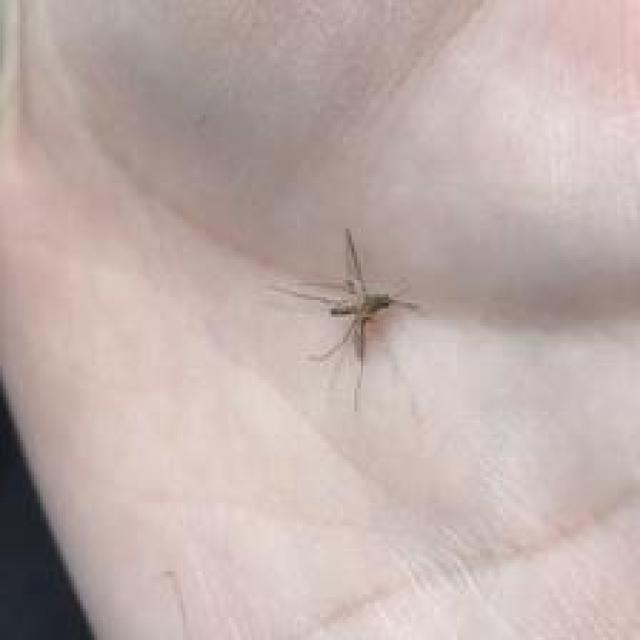Culex: (268, 226, 423, 411)
